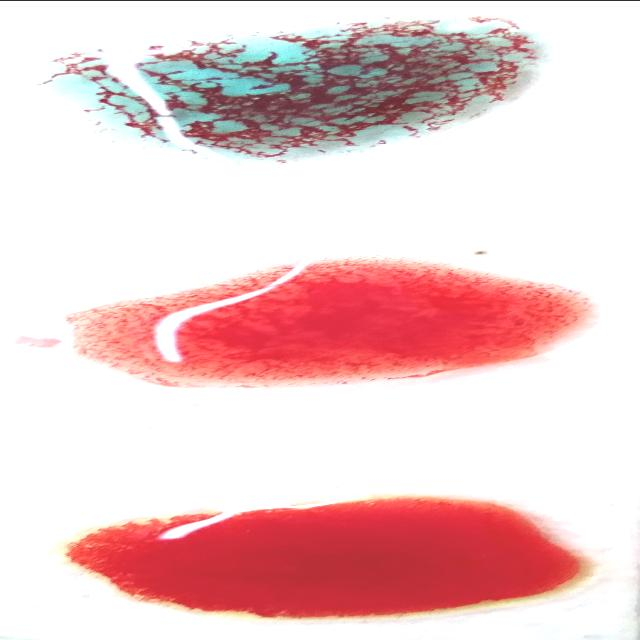A: (34, 16, 538, 158)
B: (65, 492, 591, 620)
D: (67, 258, 608, 389)
